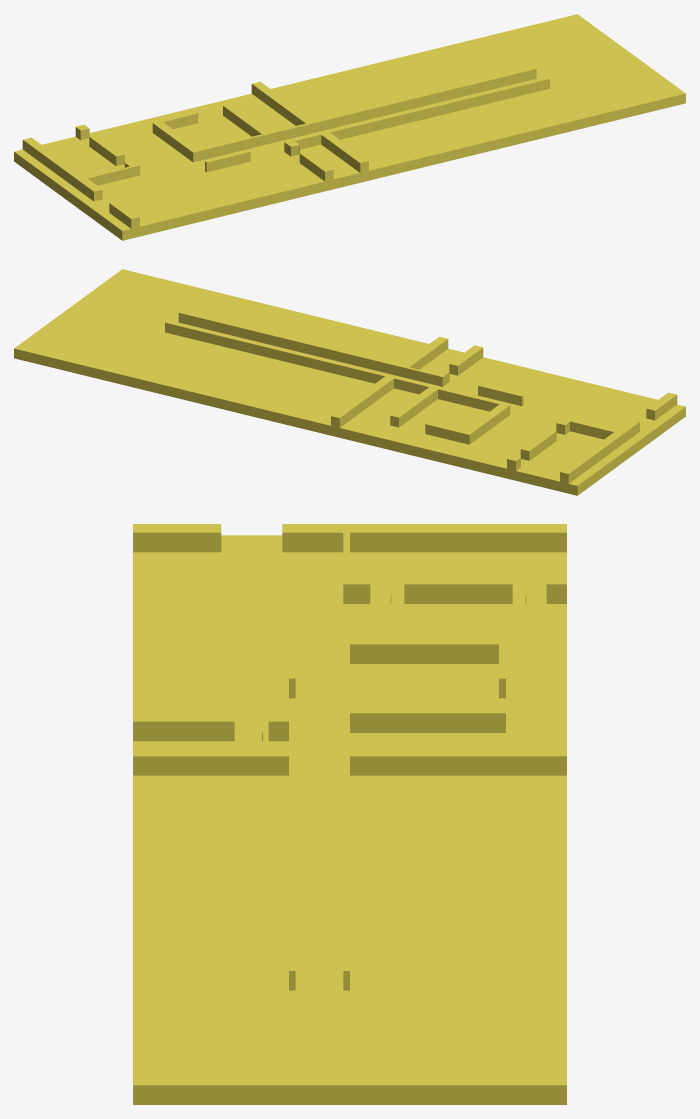
The model's file is alphaRFirstFloor.glb.
3 renders of one model, top to bottom at view 1: azimuth 30°, elevation 25°; view 2: azimuth 150°, elevation 25°; view 3: azimuth 270°, elevation 25°, orthographic. The views are drawn at different scales.
Visible parts, largest first — view 1: Cube; view 2: Cube; view 3: Cube.
Part boxes in pixels (x1,y1,x2,y2): Cube: (14, 14, 685, 240); Cube: (14, 269, 685, 495); Cube: (133, 524, 566, 1104).
Size of the model in its own units: 120 by 4.01 by 40.
